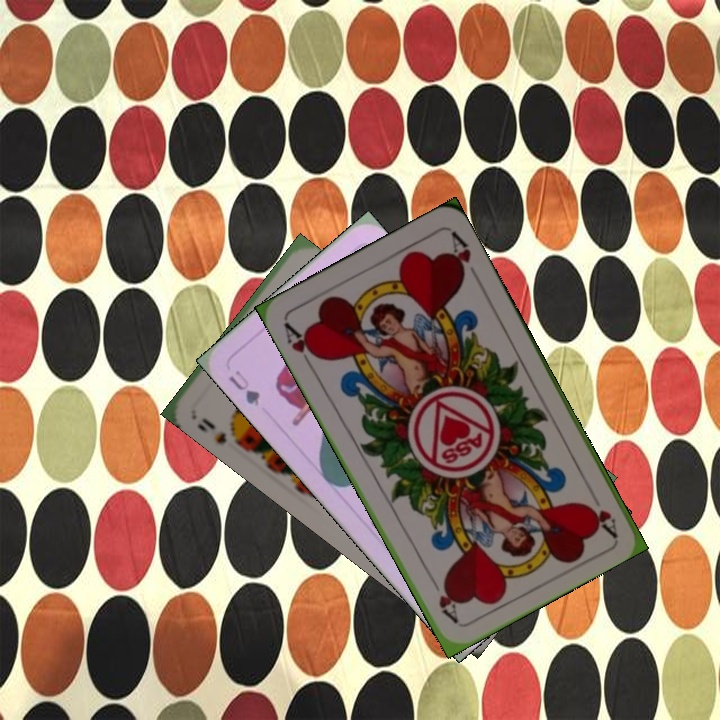GU: (224, 366, 264, 409)
HA: (280, 318, 322, 372), (584, 500, 620, 538)
S9: (197, 413, 243, 448)
